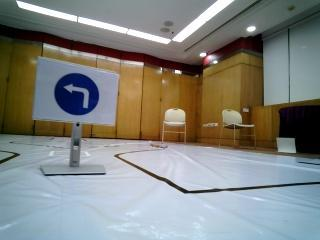left: (44, 66, 103, 119)
